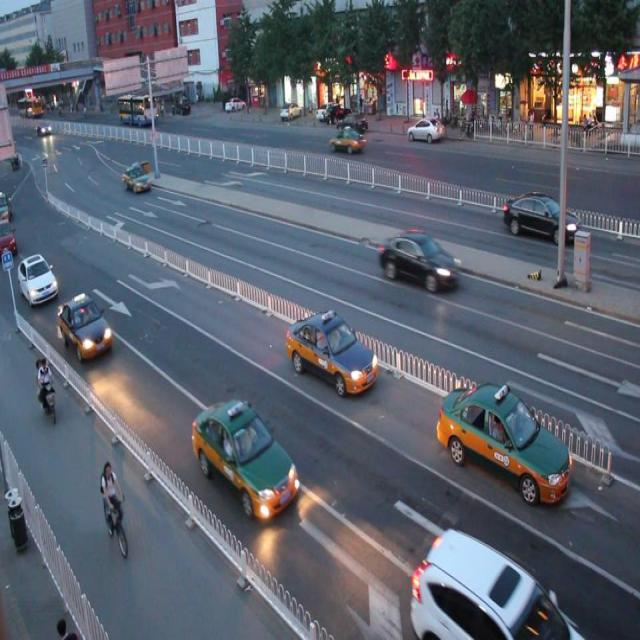car: (410, 527, 580, 640), (436, 379, 571, 508), (190, 395, 300, 521), (284, 309, 377, 395), (379, 230, 462, 291), (500, 191, 579, 244), (59, 294, 113, 358), (18, 252, 60, 304), (328, 127, 366, 155)
